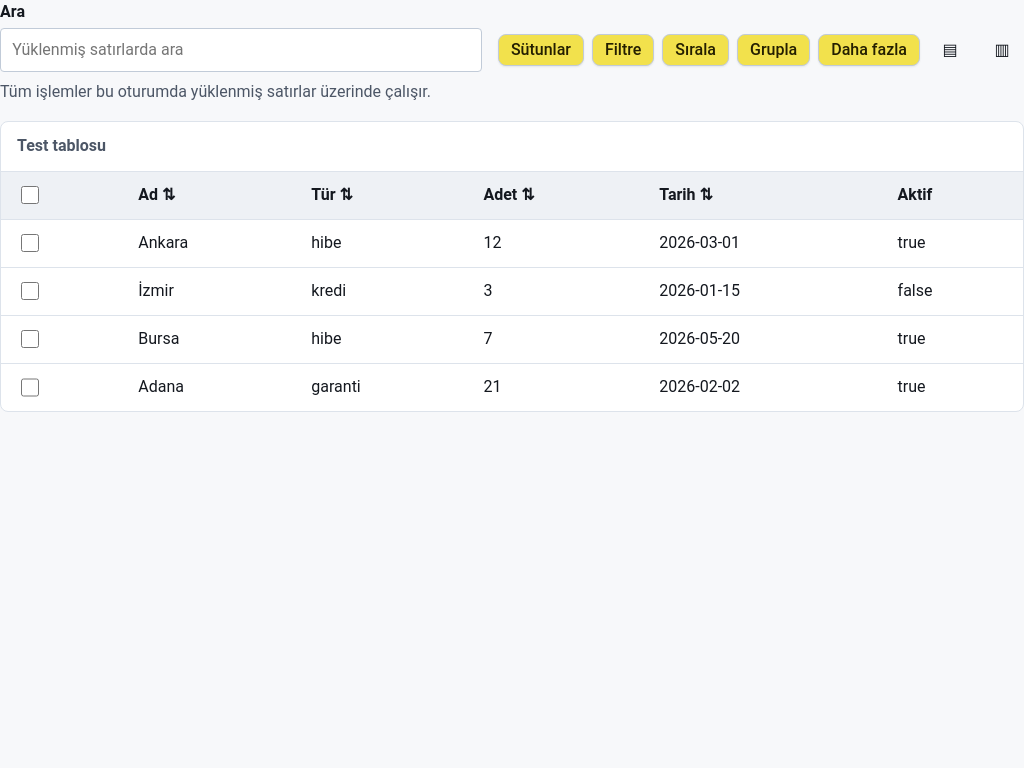
Test case: typed filters › reports how many filters are active
Click the button "Filtre".
click(623, 50)  # box 592,34 -> 654,66
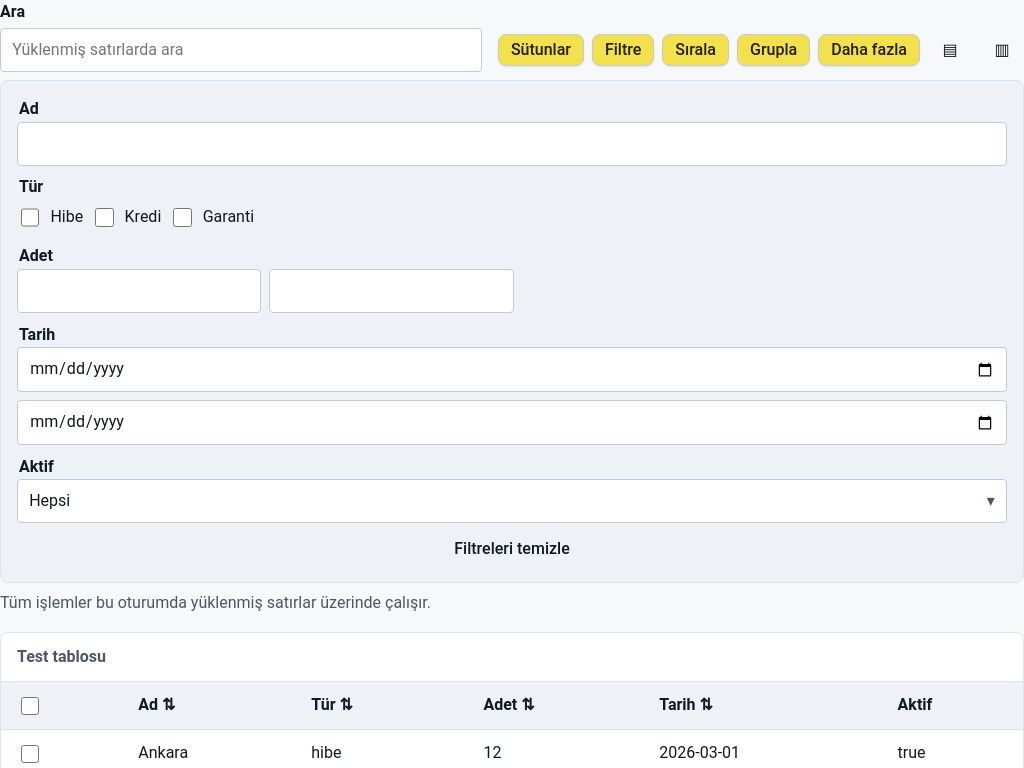
Click the checkbox labelled "Hibe".
click(30, 217)  # box 21,208 -> 39,227
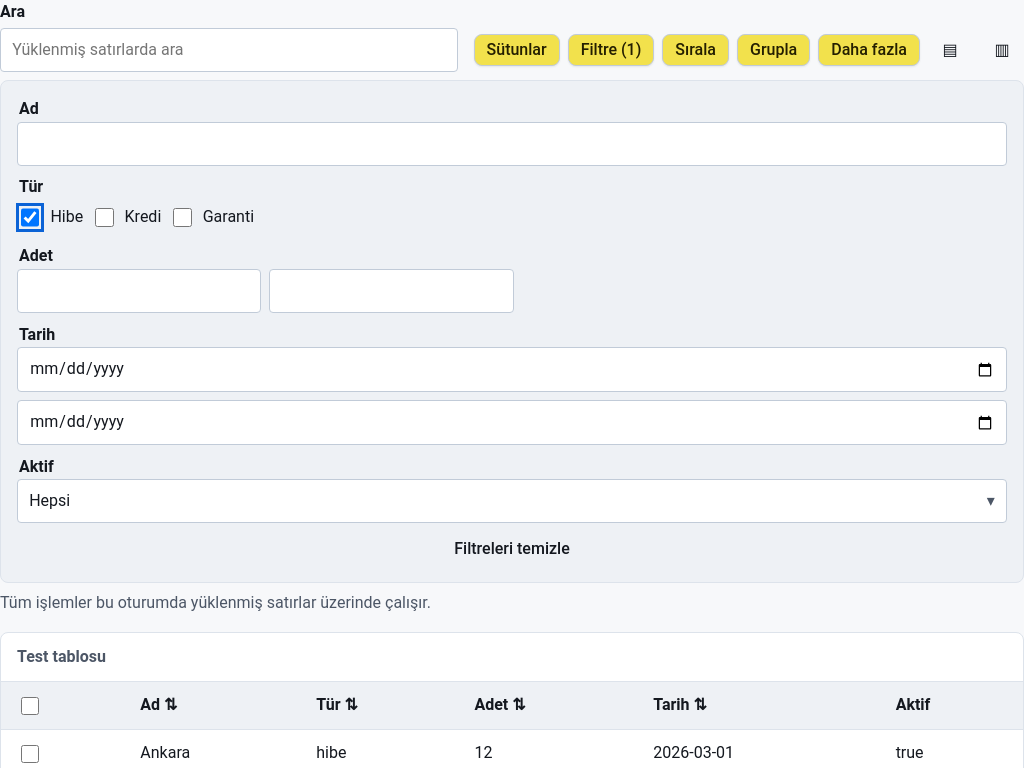
Now the button "Filtre (1)" is shown, box 568,34 -> 654,66
